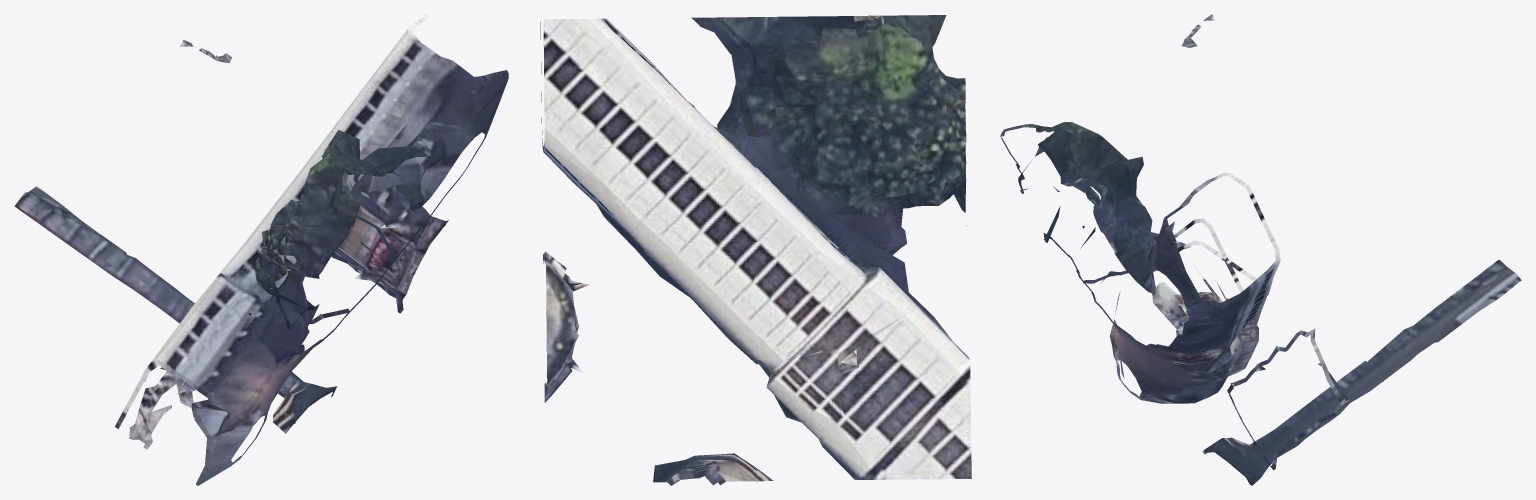
The picture shows the model from 3 angles, left to right: view 1: azimuth 30°, elevation 25°; view 2: azimuth 150°, elevation 25°; view 3: azimuth 270°, elevation 25°; orthographic projection. The views are drawn at different scales.
Bounding box in the file's own units: 42.88 × 45.34 × 54.19.
Materials: 2 (2 with a texture image).
